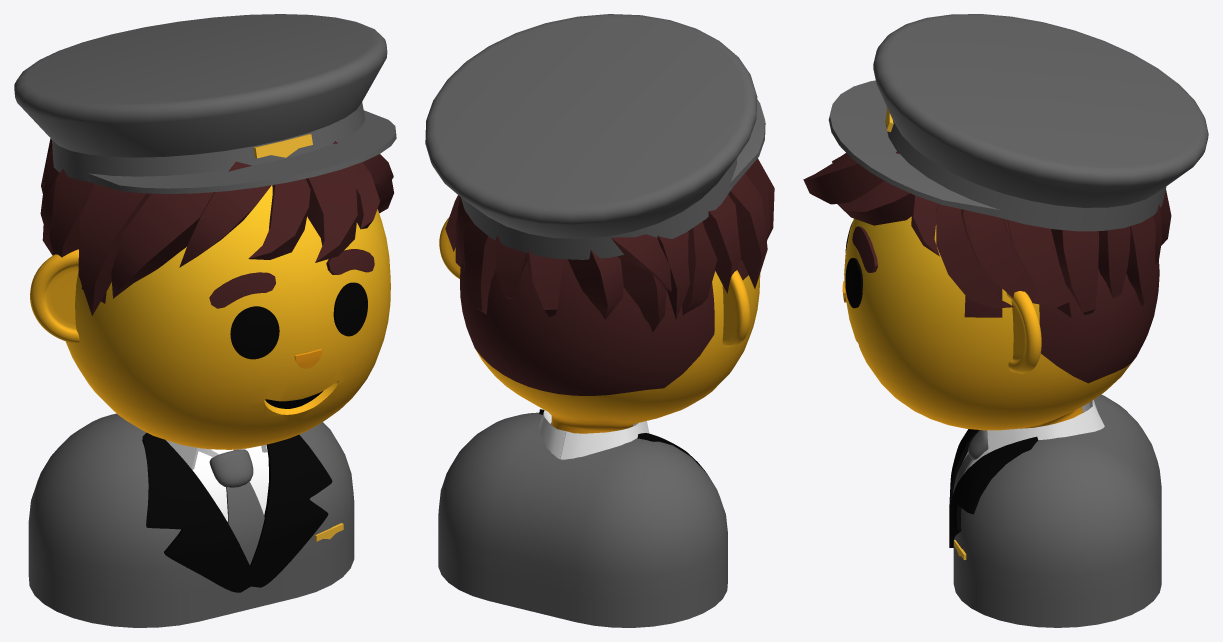
The model's file is pilot.fbx.
3 views of the same model, side by side, from view 1: azimuth 30°, elevation 25°; view 2: azimuth 150°, elevation 25°; view 3: azimuth 270°, elevation 25° (orthographic). The views are drawn at different scales.
Parts seen in each view (by area): view 1: Circle.739, Roundcube.132, Sphere.092, Cube.1617, Circle.736, Circle.733, Cylinder.110, Circle.735, Circle.738, Cube.1630, Cube.1632, Plane.069; view 2: Circle.739, Sphere.092, Roundcube.132, Cube.1617, Plane.069, Cylinder.110; view 3: Circle.739, Roundcube.132, Sphere.092, Cube.1617, Circle.736, Cylinder.110, Plane.069, Circle.733, Circle.735.
Boxes of the visible parts, x1,y1,x2,y2 form: Circle.739: (14, 14, 396, 193); Roundcube.132: (65, 185, 390, 449); Sphere.092: (28, 413, 354, 627); Cube.1617: (40, 138, 393, 315); Circle.736: (142, 433, 332, 592); Circle.733: (230, 282, 367, 359); Cylinder.110: (30, 249, 79, 343); Circle.735: (209, 249, 374, 308); Circle.738: (226, 481, 264, 564); Cube.1630: (209, 449, 253, 487); Cube.1632: (253, 134, 312, 158); Plane.069: (166, 440, 267, 469); Circle.739: (425, 14, 765, 259); Sphere.092: (438, 412, 727, 627); Roundcube.132: (460, 259, 760, 433); Cube.1617: (445, 158, 774, 332); Plane.069: (539, 410, 649, 459); Cylinder.110: (439, 217, 750, 346); Circle.739: (828, 14, 1208, 231); Roundcube.132: (844, 210, 1159, 430); Sphere.092: (953, 394, 1161, 627); Cube.1617: (803, 151, 1171, 317); Circle.736: (949, 429, 1038, 547); Cylinder.110: (1006, 291, 1041, 373); Plane.069: (987, 400, 1104, 452); Circle.733: (845, 222, 862, 308); Circle.735: (852, 226, 877, 272).
Bounding box in the file's own units: 163 × 248 × 180.
Materials: 2 (2 with a texture image).
